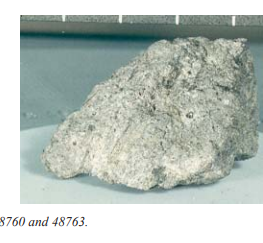Basalt: (37, 31, 262, 193)
